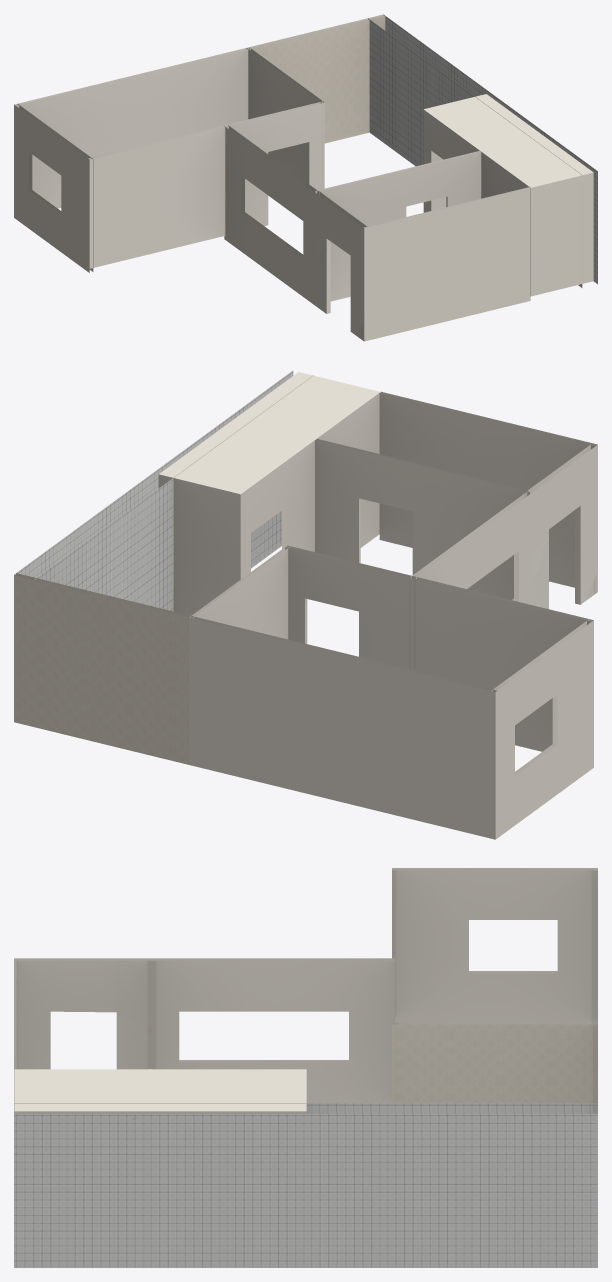
The model's file is RoomInside.fbx.
The picture shows the model from 3 angles, top to bottom: view 1: azimuth 30°, elevation 25°; view 2: azimuth 150°, elevation 25°; view 3: azimuth 270°, elevation 25°; orthographic projection. The views are drawn at different scales.
Visible parts, largest first — view 1: RoomInside; view 2: RoomInside; view 3: RoomInside.
Part boxes in pixels (box(x1,y1,x2,y2)): RoomInside: box(14, 14, 597, 341); RoomInside: box(14, 370, 597, 839); RoomInside: box(14, 868, 597, 1267).
Bounding box in the file's own units: 1346 × 394 × 1353.
